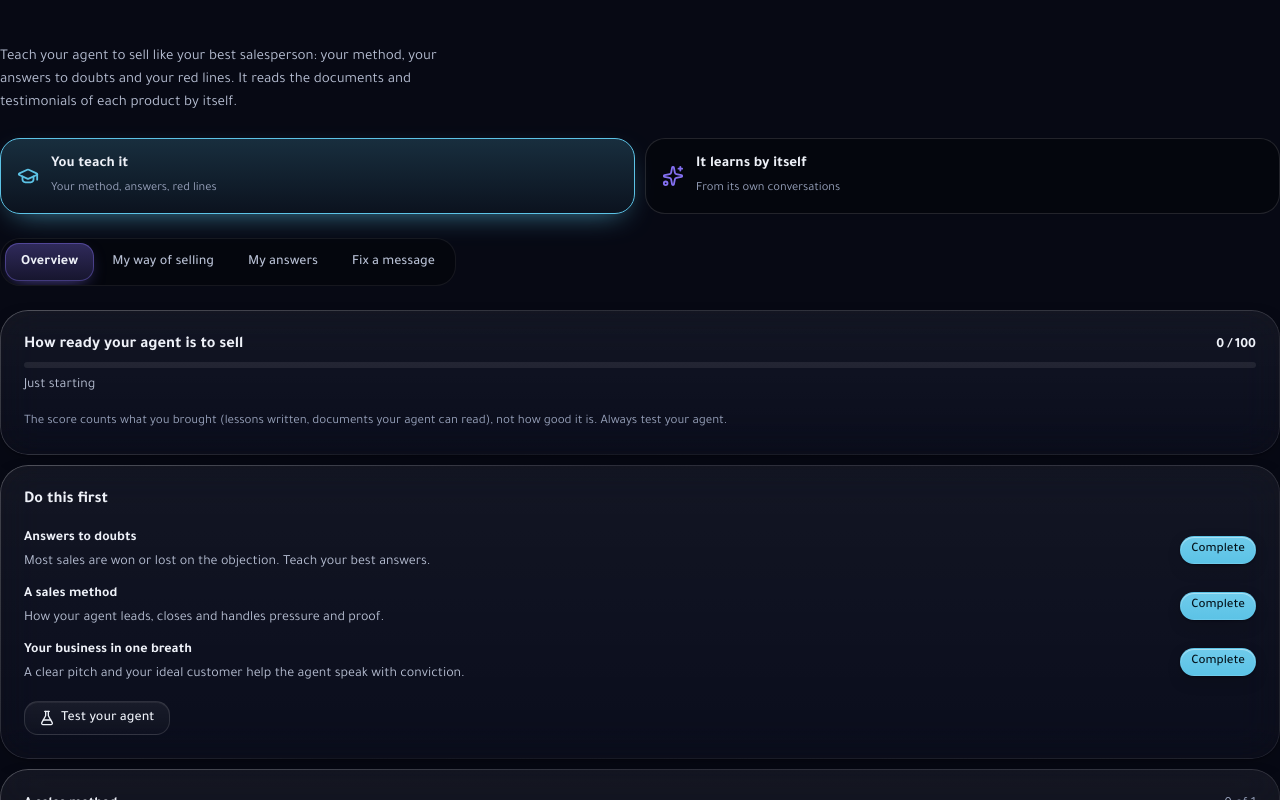
Test: Train your agent › warns about a lesson that holds a price and does not save it
This screenshot has width=1280, height=800.
Click the tab "My answers": (283, 262) [232,243,334,281]
(page scrolled)
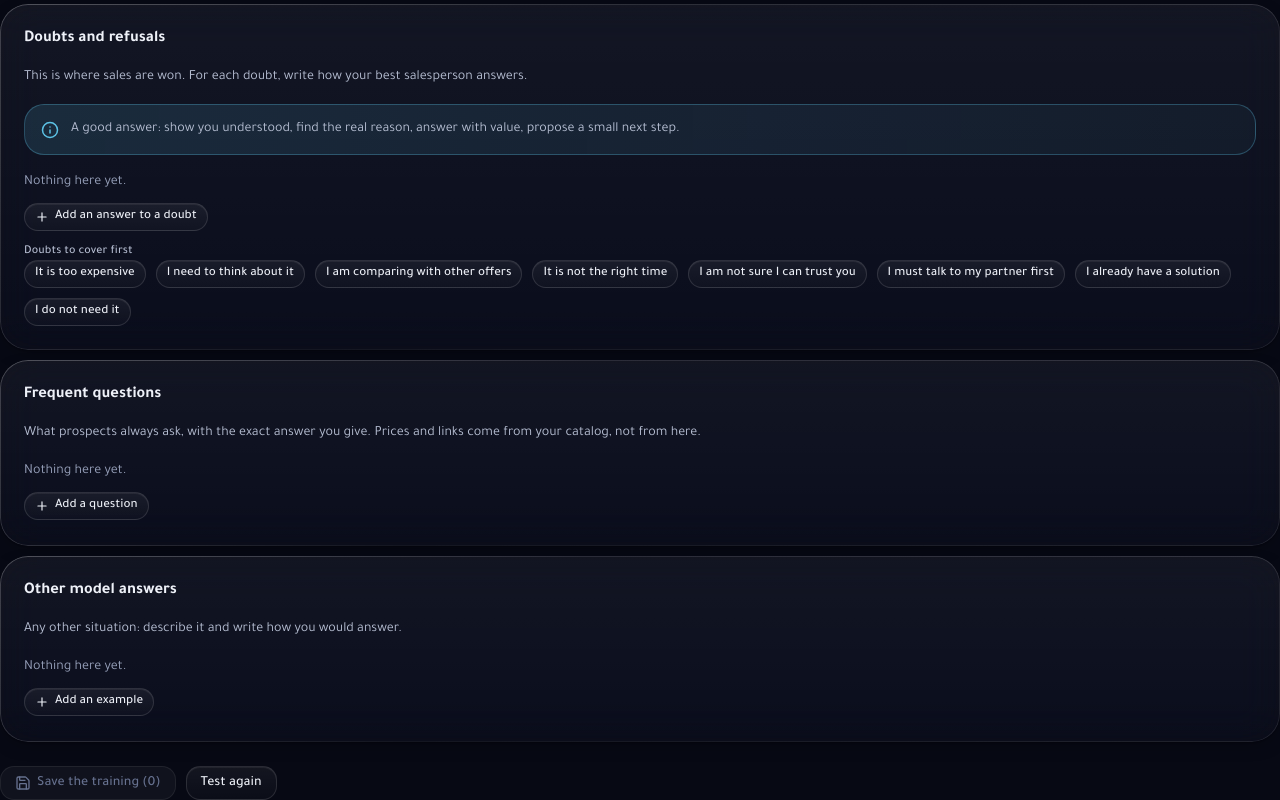
Click the button "Add a question": (86, 506) [24,492,149,520]
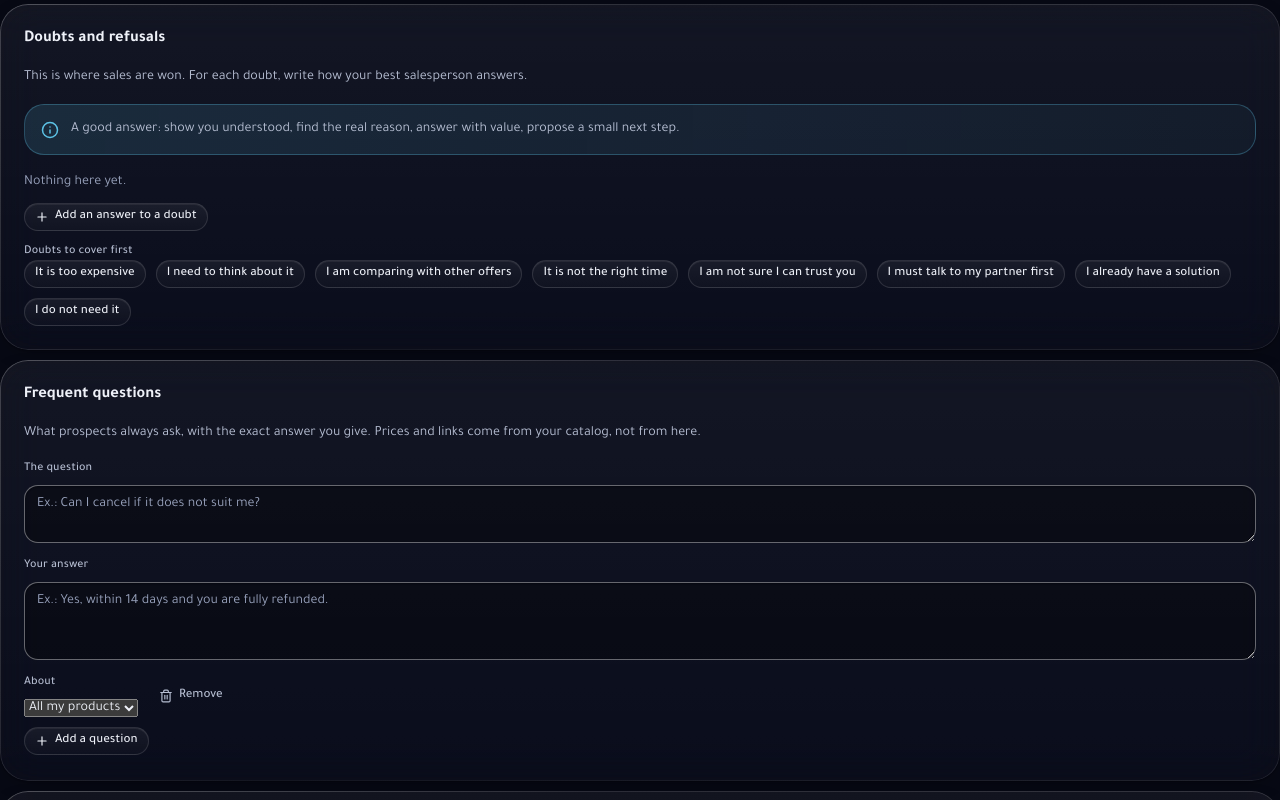
In the text box labelled "The question": (640, 514) [24,485,1256,543], type "How much?"
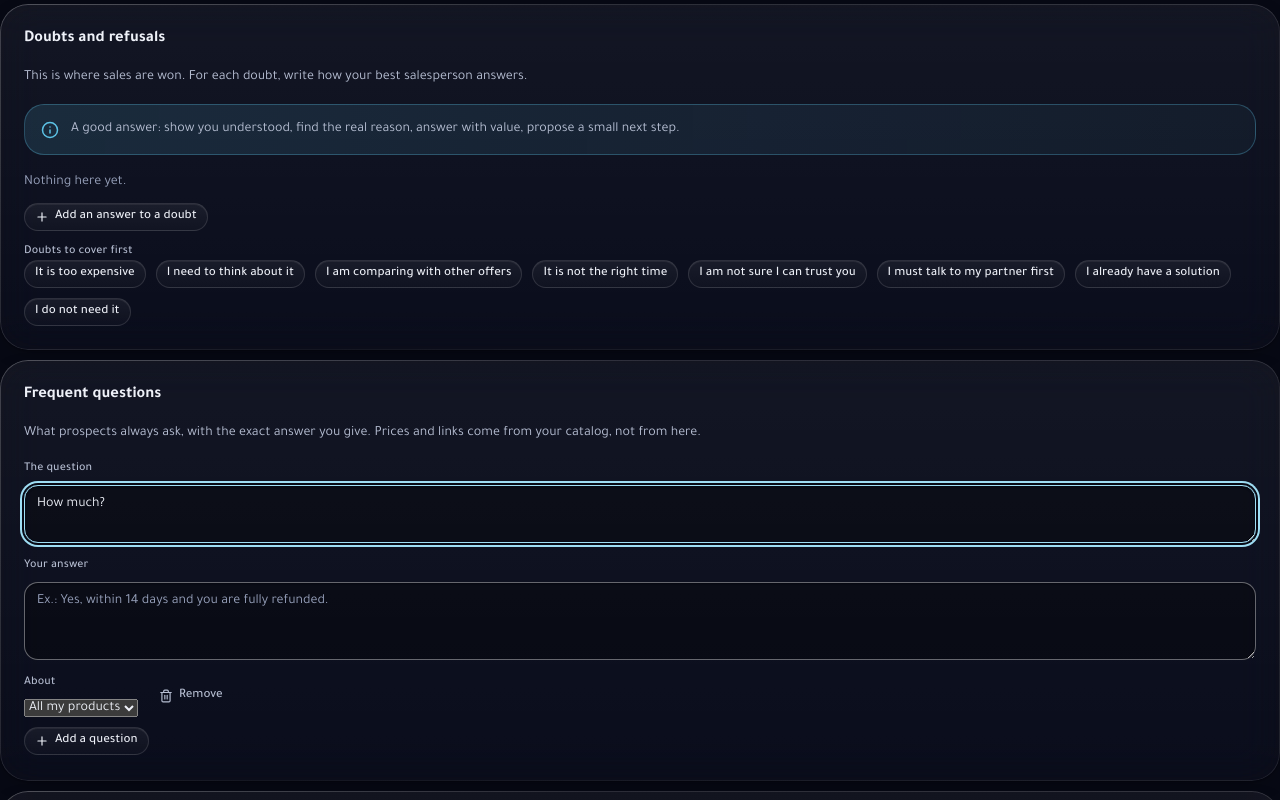
In the text box labelled "Your answer": (640, 621) [24,582,1256,660], type "It costs 49 EUR"
(page scrolled)
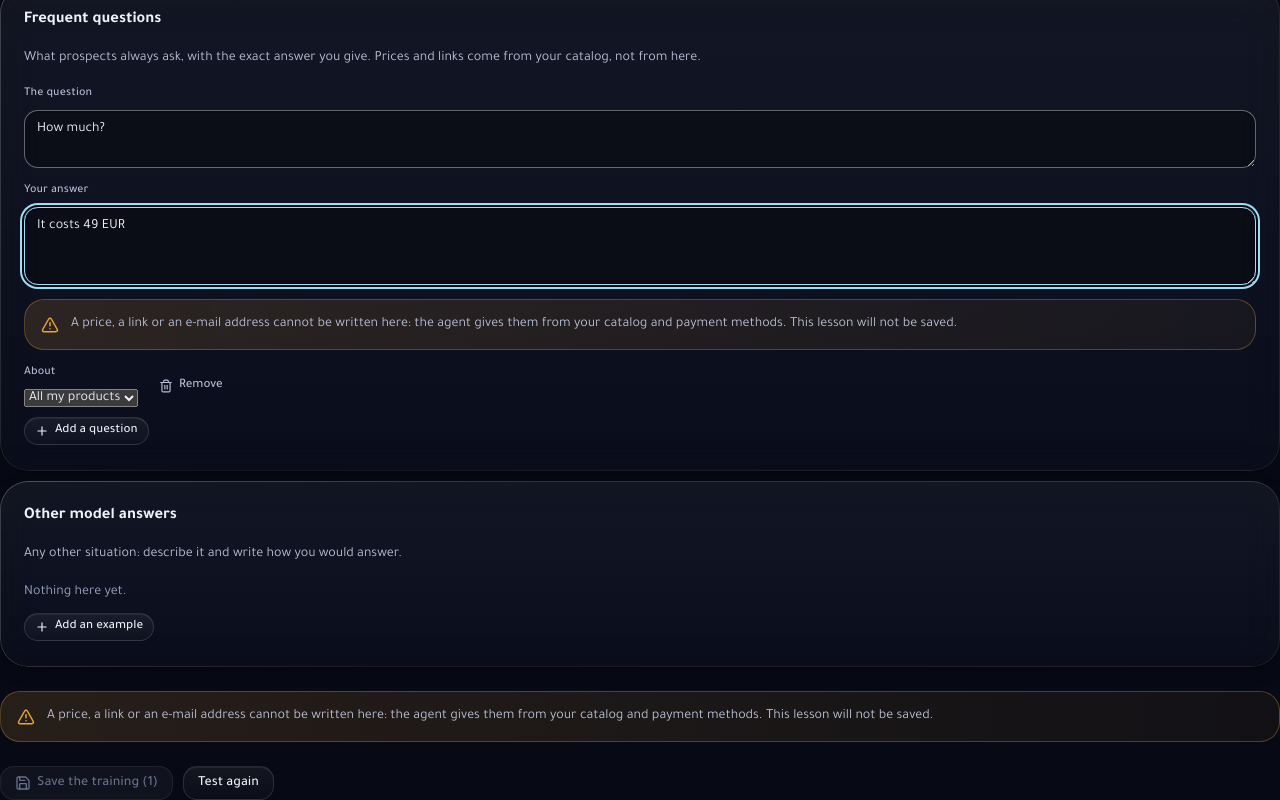
Expected: the button "Save the training ( 1 )" is disabled, [0,766,173,799]
Expected: the text "cannot be written here" below "The question" is shown, [71,317,957,331]
